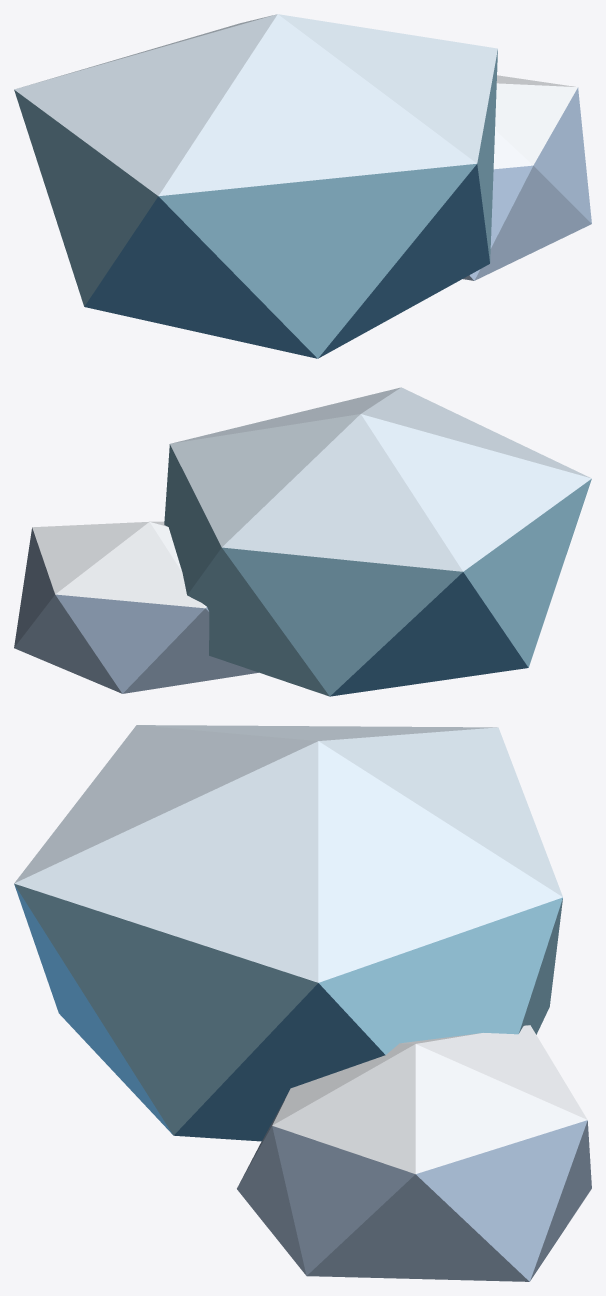
Rendered from Ice_Boulder.glb.
3 views of the same model, one above another, from view 1: azimuth 30°, elevation 25°; view 2: azimuth 150°, elevation 25°; view 3: azimuth 270°, elevation 25° (orthographic). The views are drawn at different scales.
Visible parts, largest first — view 1: Ice_Boulder; view 2: Ice_Boulder; view 3: Ice_Boulder.
Boxes of the visible parts, left/top/right/bottom form: Ice_Boulder: left=14, top=14, right=591, bottom=358; Ice_Boulder: left=14, top=387, right=591, bottom=696; Ice_Boulder: left=14, top=725, right=591, bottom=1281.
Bounding box in the file's own units: 3.13 × 1.77 × 2.38.
Materials: 1 (1 with a texture image).
